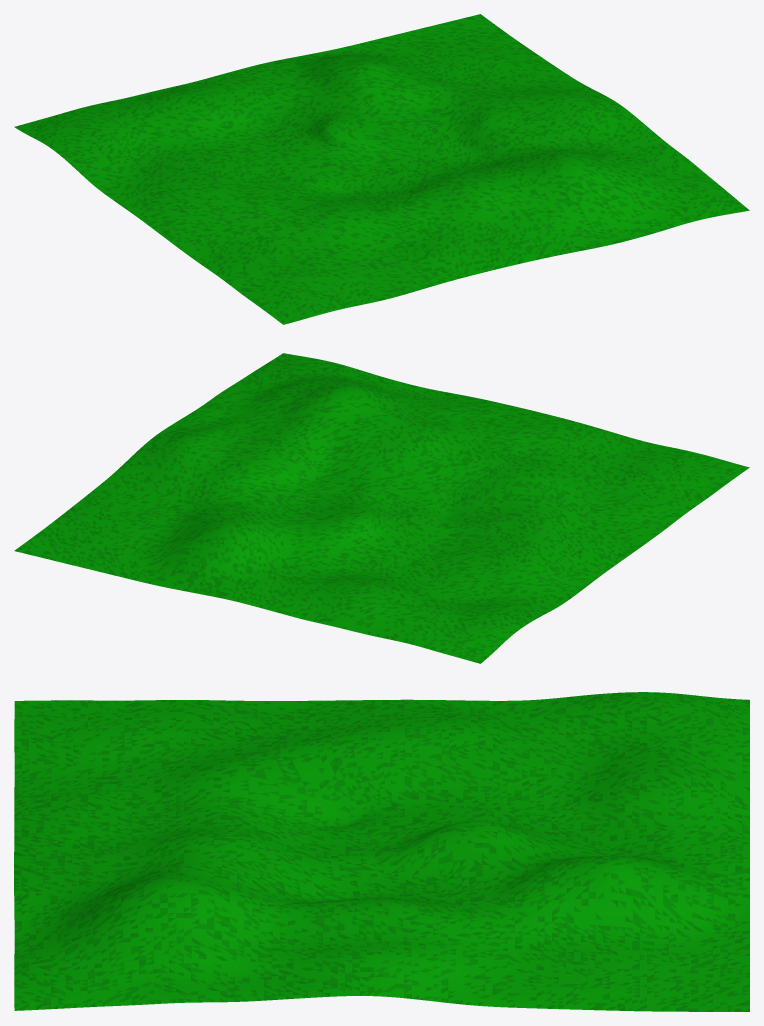
File: GroundTest.fbx
The picture shows the model from 3 angles, top to bottom: view 1: azimuth 30°, elevation 25°; view 2: azimuth 150°, elevation 25°; view 3: azimuth 270°, elevation 25°; orthographic projection. The views are drawn at different scales.
Visible parts, largest first — view 1: pPlane1; view 2: pPlane1; view 3: pPlane1.
Part boxes in pixels (x1,y1,x2,y2): pPlane1: (14,14,749,324); pPlane1: (14,353,749,663); pPlane1: (14,692,749,1011).
Size of the model in its own units: 25.01 by 1.79 by 25.03.
